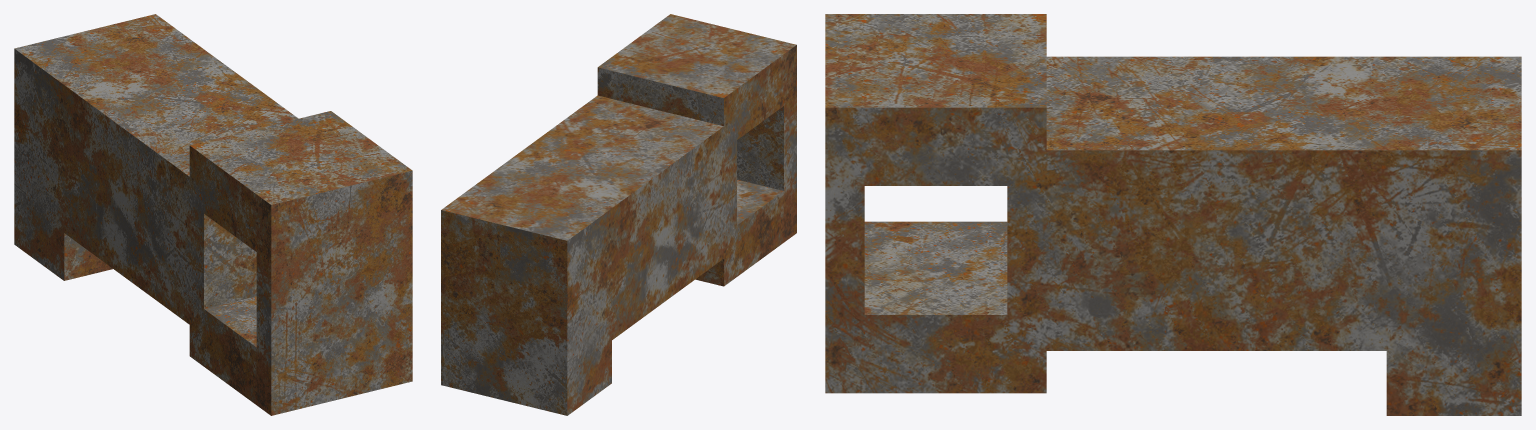
File: Key.glb
3 views of the same model, side by side, from view 1: azimuth 30°, elevation 25°; view 2: azimuth 150°, elevation 25°; view 3: azimuth 270°, elevation 25° (orthographic). The views are drawn at different scales.
Visible parts, largest first — view 1: Cube; view 2: Cube; view 3: Cube.
Boxes of the visible parts, x1,y1,x2,y2 form: Cube: (14,14,412,415); Cube: (441,14,796,415); Cube: (825,14,1521,415).
Bounding box in the file's own units: 2 × 3.07 × 6.29.
1 material, 1 textured.
